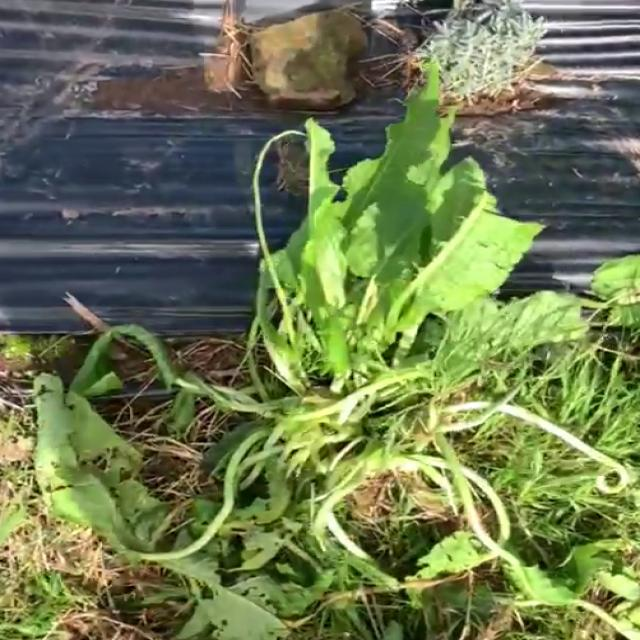organic waste: (83, 108, 640, 639)
